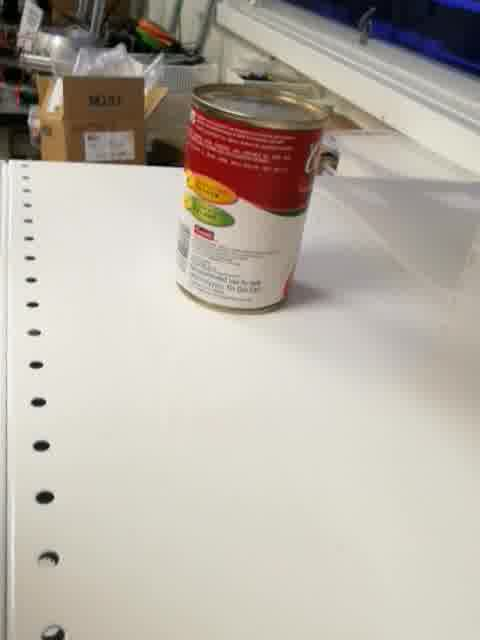tomatosoup: (171, 83, 332, 319)
